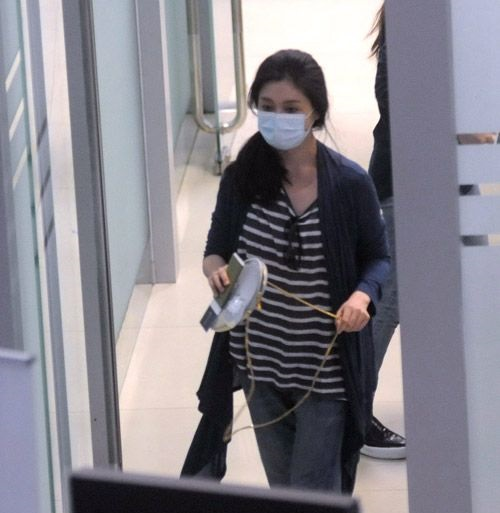face_mask: (256, 78, 311, 147)
